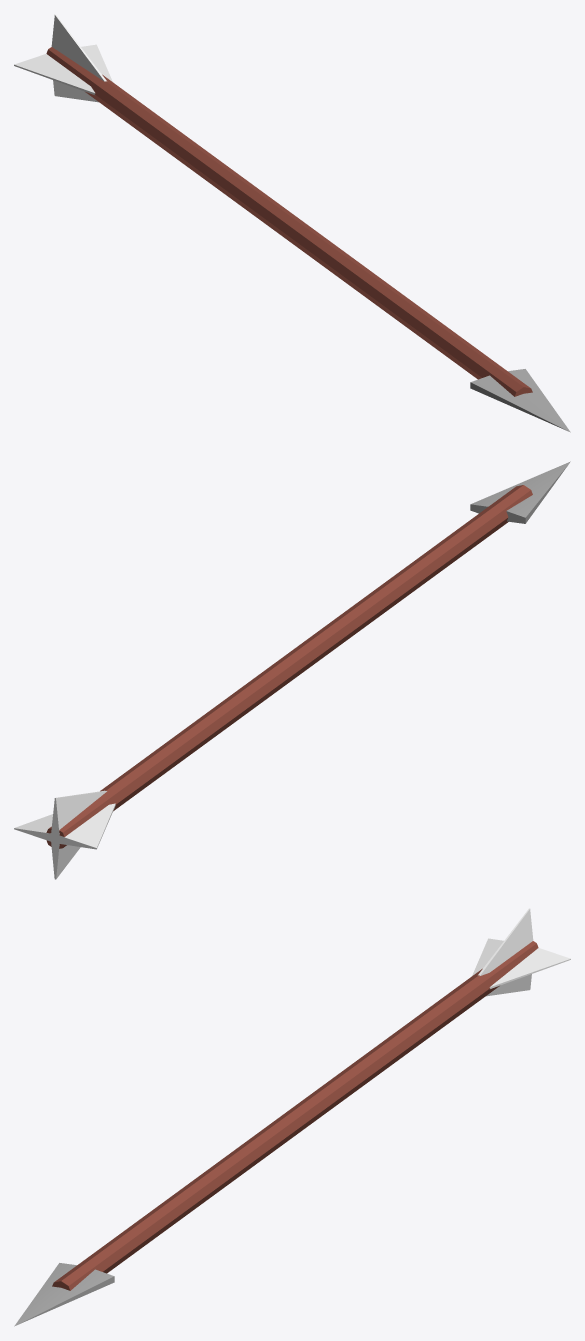
The model's file is Arrow.fbx.
The picture shows the model from 3 angles, top to bottom: view 1: azimuth 30°, elevation 25°; view 2: azimuth 150°, elevation 25°; view 3: azimuth 330°, elevation 25°; orthographic projection.
Parts seen in each view (by area): view 1: pCube3; view 2: pCube3; view 3: pCube3.
Part boxes in pixels (box(x1,y1,x2,y2)): pCube3: box(14, 14, 570, 432); pCube3: box(14, 461, 570, 879); pCube3: box(14, 908, 570, 1326).
Size of the model in its own units: 0.7766 by 0.7297 by 8.38.
